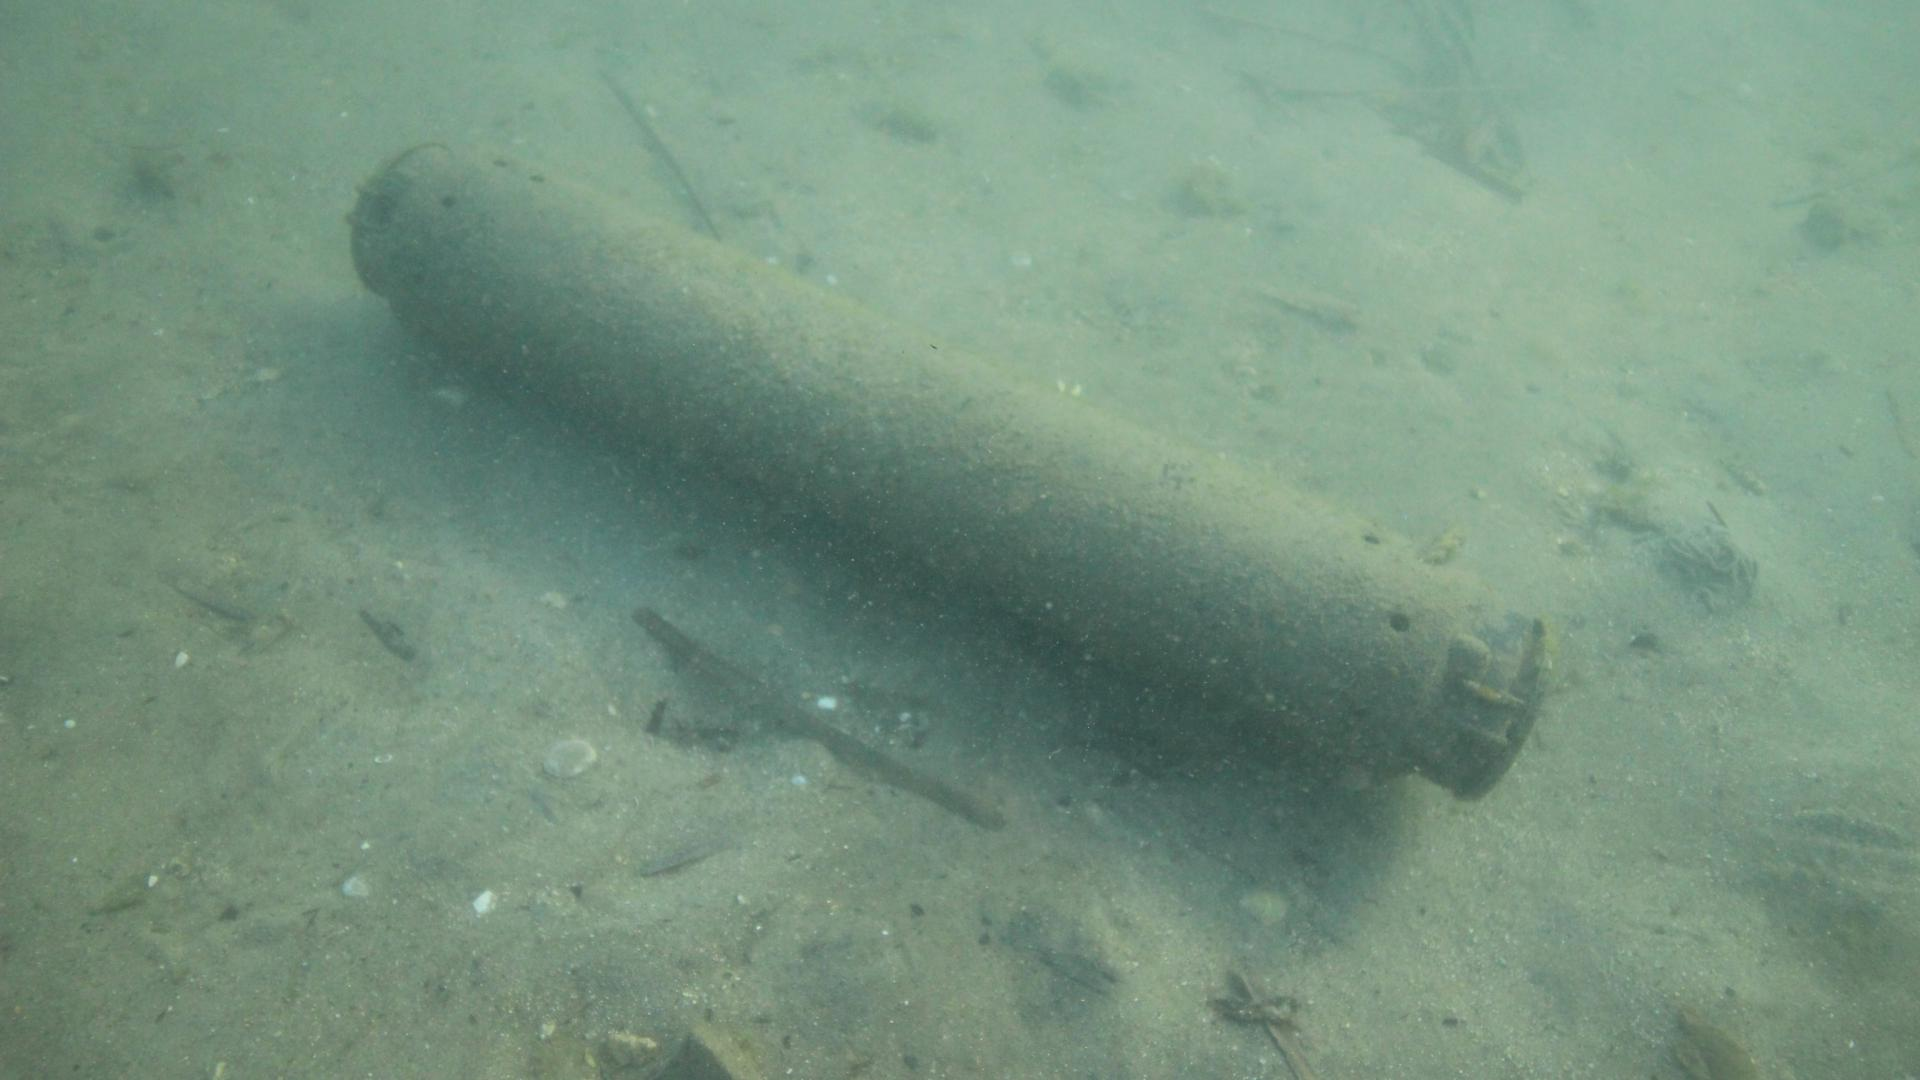eel fish trap: (344, 140, 1549, 803)
